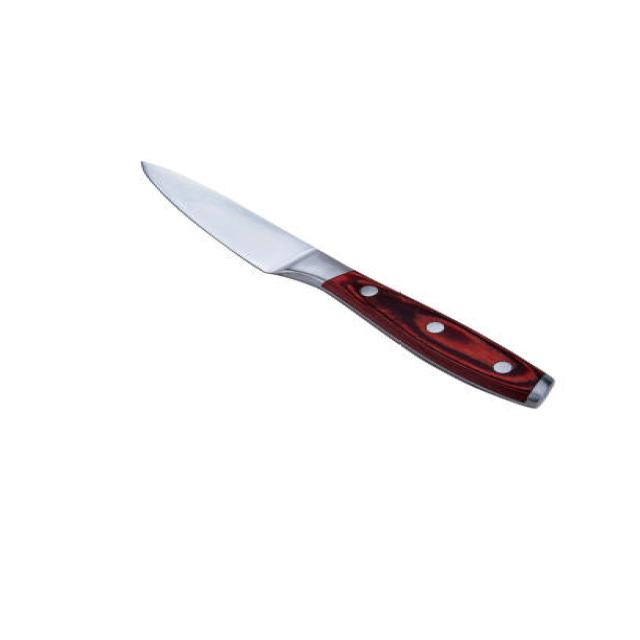knife: (135, 161, 561, 414)
